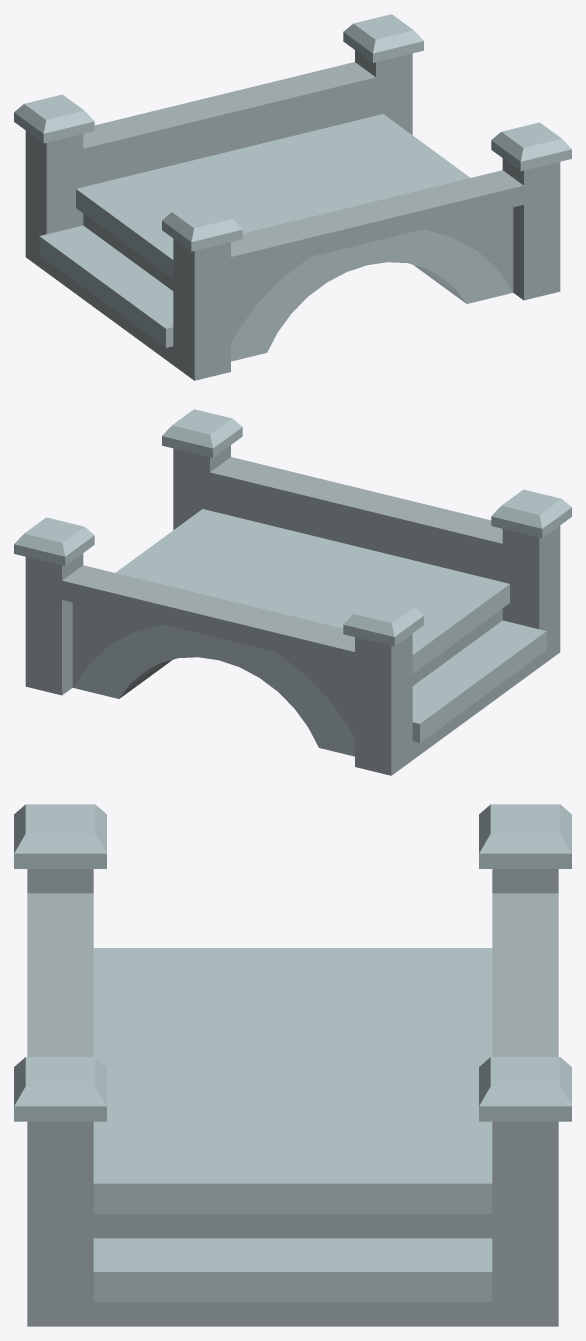
File: bridge_stoneRoundNarrow.glb
The picture shows the model from 3 angles, top to bottom: view 1: azimuth 30°, elevation 25°; view 2: azimuth 150°, elevation 25°; view 3: azimuth 270°, elevation 25°; orthographic projection. The views are drawn at different scales.
Visible parts, largest first — view 1: bridge_stoneRoundNarrow; view 2: bridge_stoneRoundNarrow; view 3: bridge_stoneRoundNarrow.
Part boxes in pixels (bbox=[...]): bridge_stoneRoundNarrow: bbox=[14, 14, 571, 380]; bridge_stoneRoundNarrow: bbox=[14, 409, 571, 775]; bridge_stoneRoundNarrow: bbox=[14, 804, 571, 1326].
Size of the model in its own units: 1.04 by 0.4 by 0.84.
